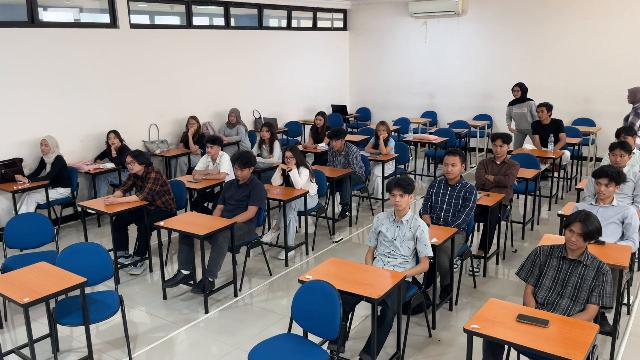fokus: (31, 134, 59, 165), (566, 224, 587, 248), (594, 180, 612, 199), (390, 190, 407, 210), (443, 158, 460, 178), (610, 150, 627, 166), (126, 156, 140, 173), (234, 165, 249, 180), (492, 141, 506, 157), (616, 133, 633, 145), (285, 152, 296, 166), (108, 134, 119, 147), (330, 139, 341, 150), (206, 145, 217, 155), (315, 115, 324, 126), (378, 127, 387, 138), (189, 119, 197, 131), (229, 114, 239, 123), (260, 128, 269, 138)
